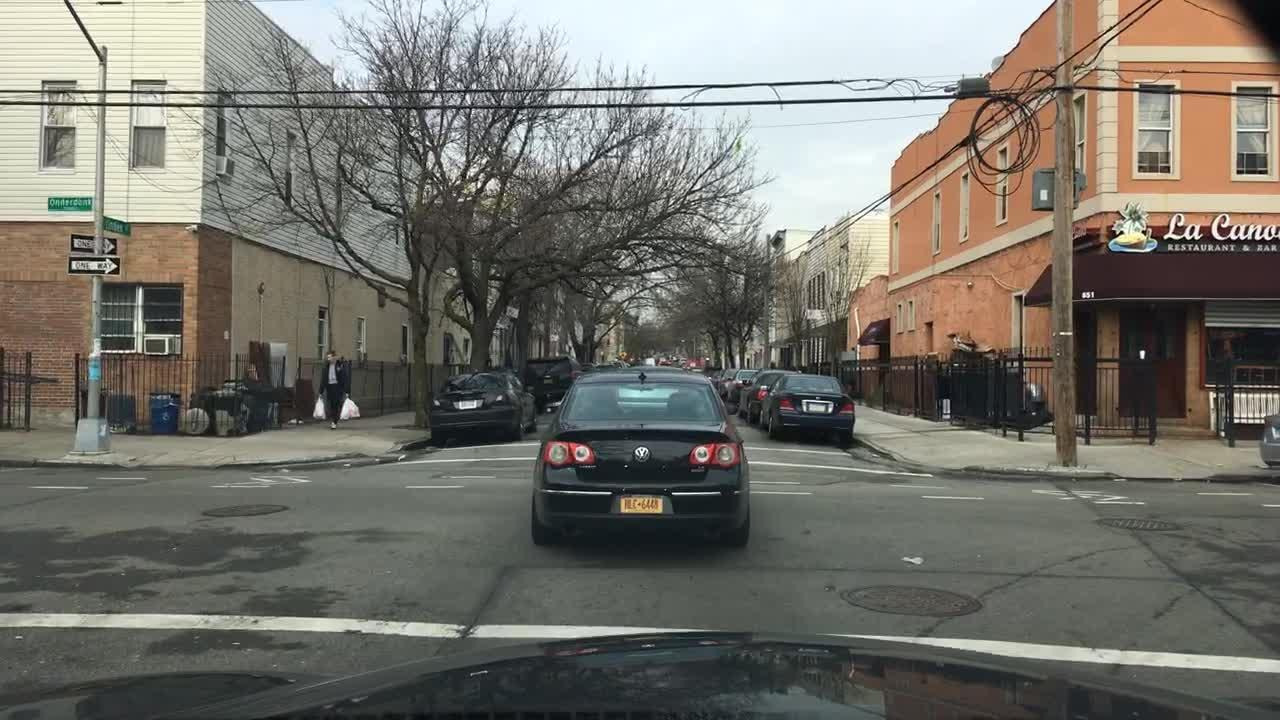Volkswagen: (628, 438, 661, 469)
